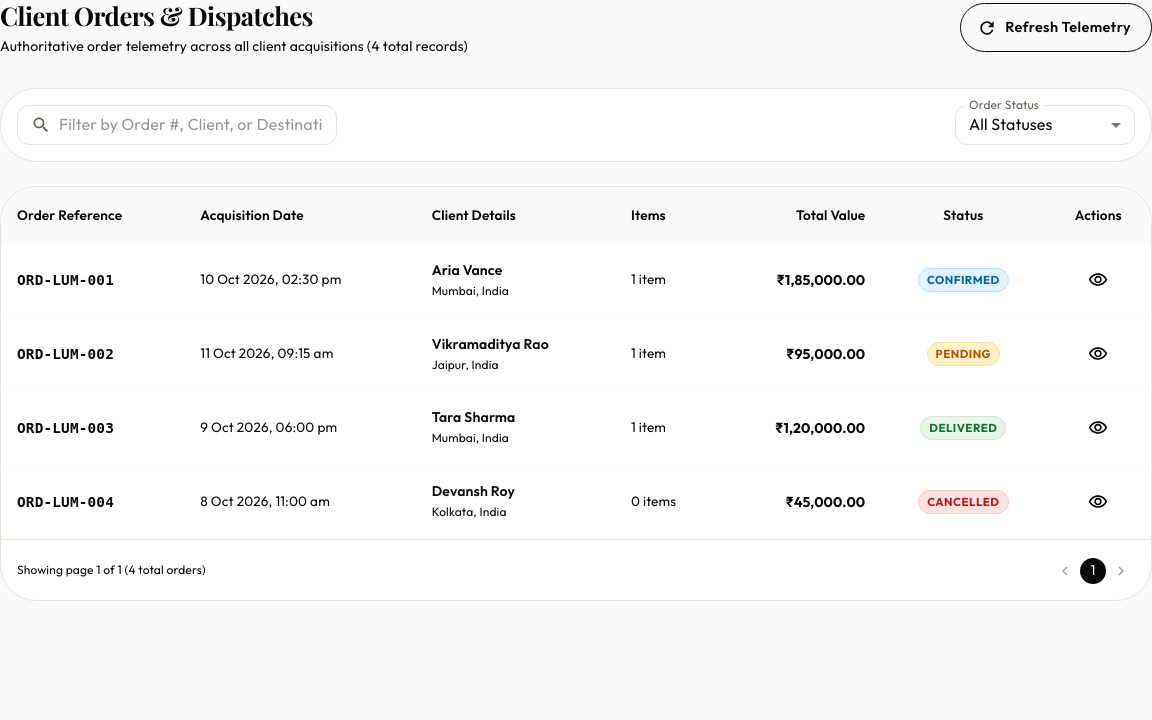
Test: LUMIÈRE Stage 7B.2: Admin Management Suite Polish › Admin Order Management › opens order dossier modal showing line items and automated status notice
The width and height of the screenshot is (1152, 720).
expect the text "ORD-LUM-001" is shown: met, box [1,244,184,318]
Click the button named "inspect order". click: (1098, 280)
box: [1083,265,1113,295]
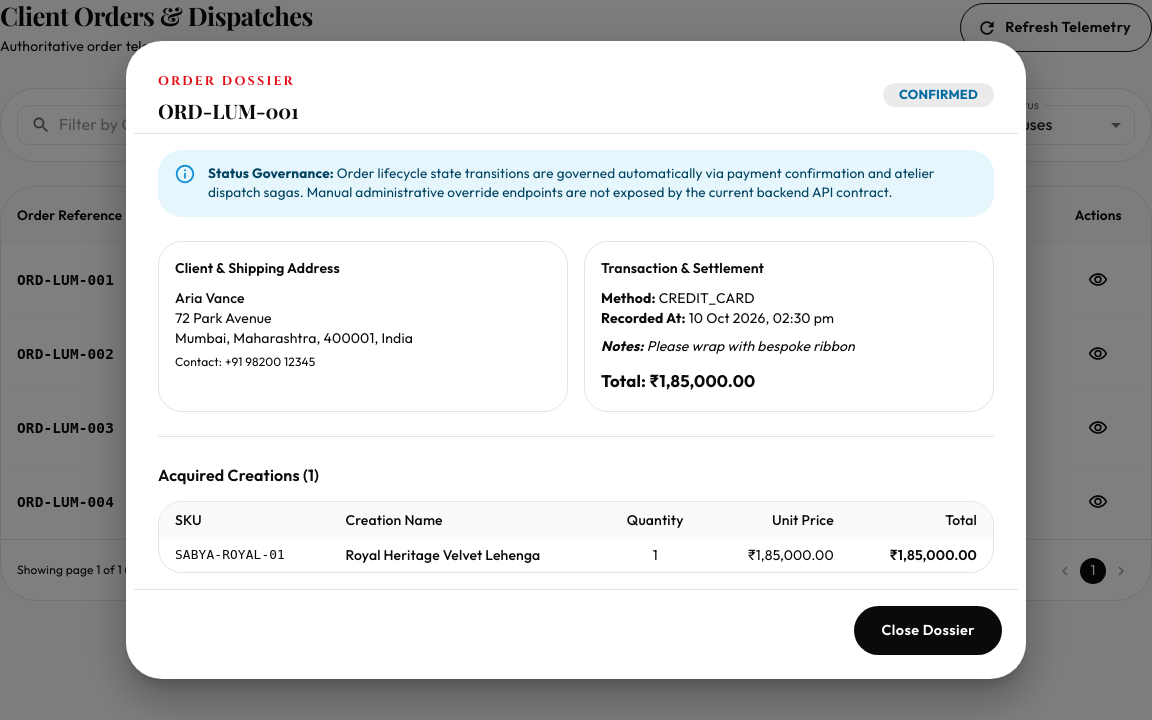
expect the text "ORDER DOSSIER" is shown: met, box [158,73,295,90]
expect the text "Royal Heritage Velvet Lehenga" is shown: met, box [330,538,602,571]
expect the text "SABYA-ROYAL-01" is shown: met, box [159,538,330,571]
